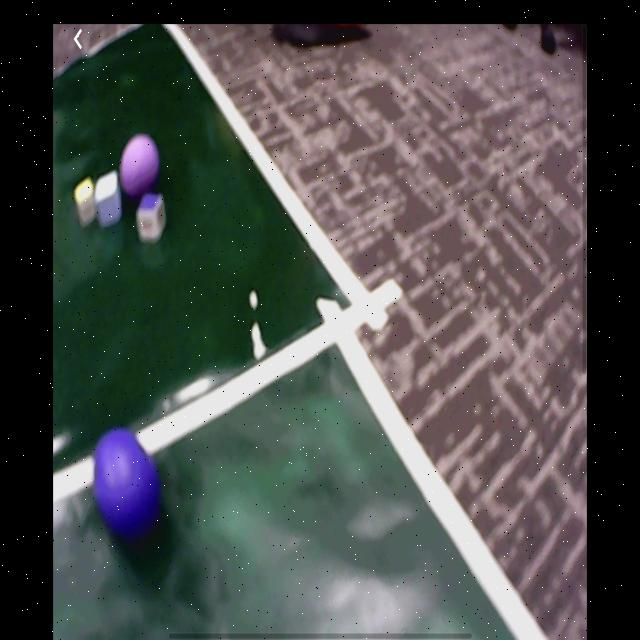ball: (94, 432, 160, 535), (121, 135, 159, 197)
